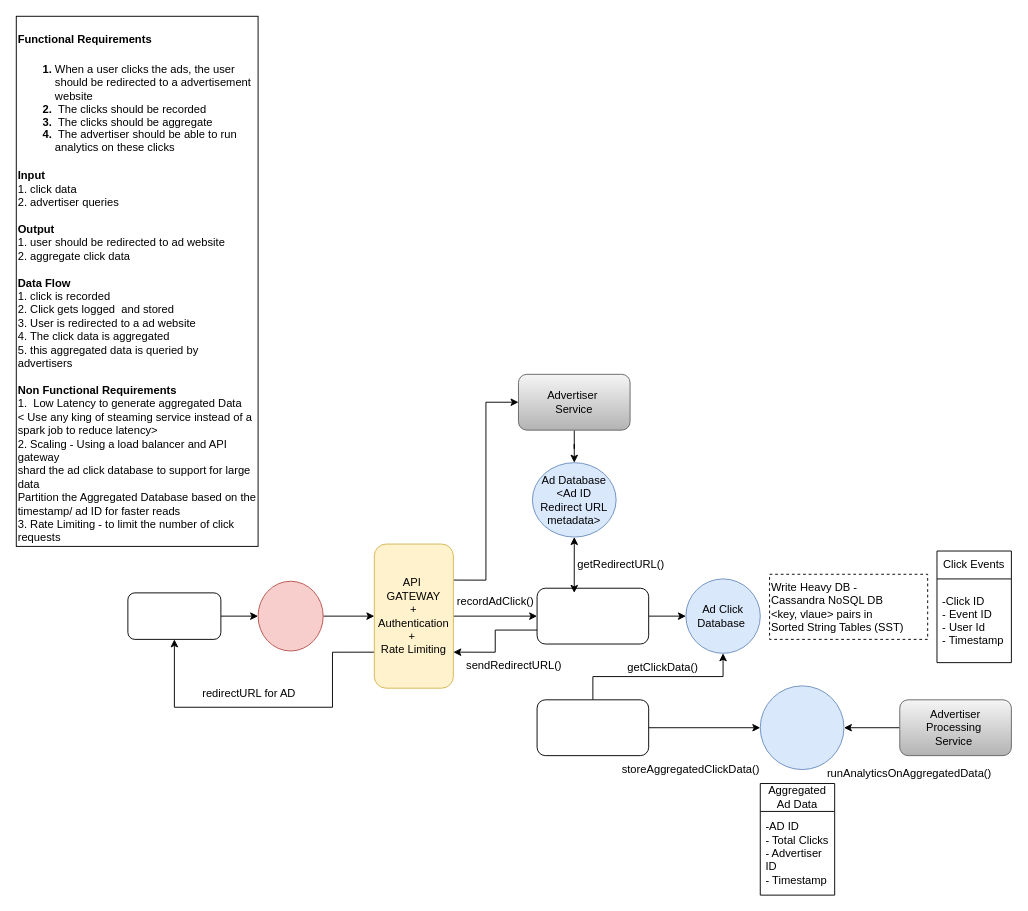
The diagram is 1028 pixels wide and 911 high, and some of its shapes have lost their labels. Each missing label, with the box of its shape:
Ad Click Aggregator Service < Spark Job>: (536, 699, 649, 756)
Ad Click Service: (536, 587, 649, 644)
Aggregated Data SQL <OLAP Database>: (759, 685, 844, 770)
Client: (127, 592, 221, 639)
Load Balancer: (257, 580, 323, 651)
